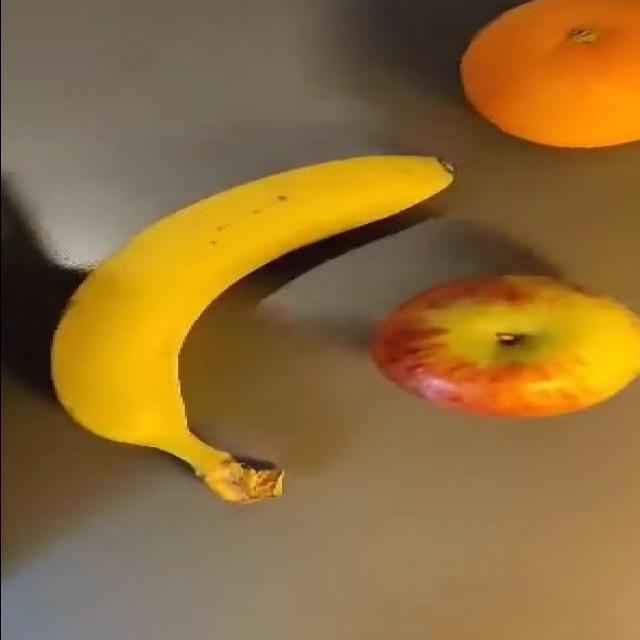Apple: (369, 269, 640, 416)
Banana: (52, 152, 458, 487)
Orange: (462, 0, 640, 152)
